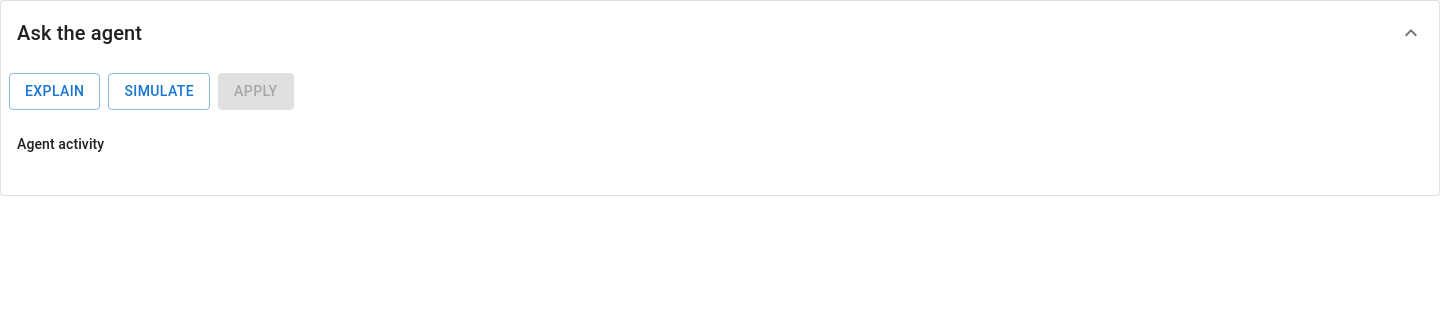
it: AgentPanel (screen.custom / agent-panel) › shows the tool error and leaves Apply disabled
The image size is (1440, 322).
What coordinates should you click on to do the following:
click the button with test id "agent-simulate"
I would click on:
 (159, 91)
Its box is [108,73,210,110].
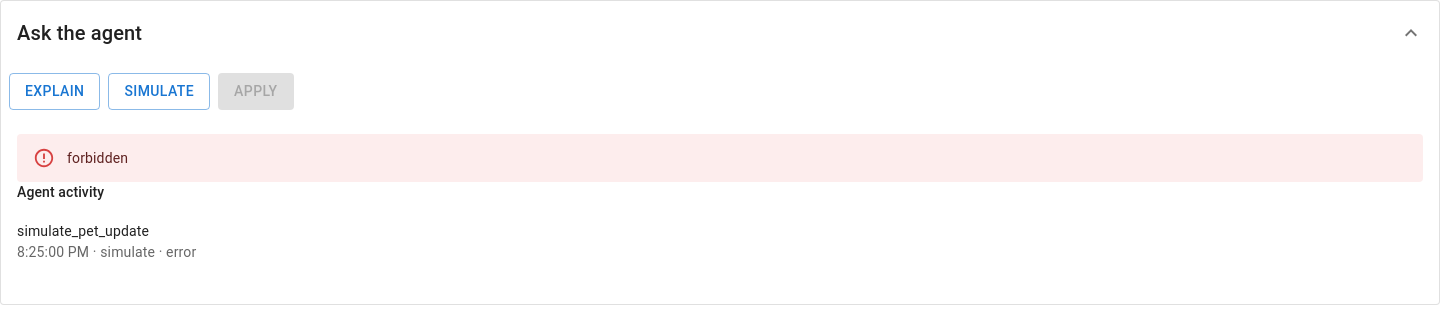
Expected: the button with test id "agent-apply" is disabled, [218,73,294,110]
Result: the message with test id "agent-error" reads "forbidden" at [67,150,128,166]
